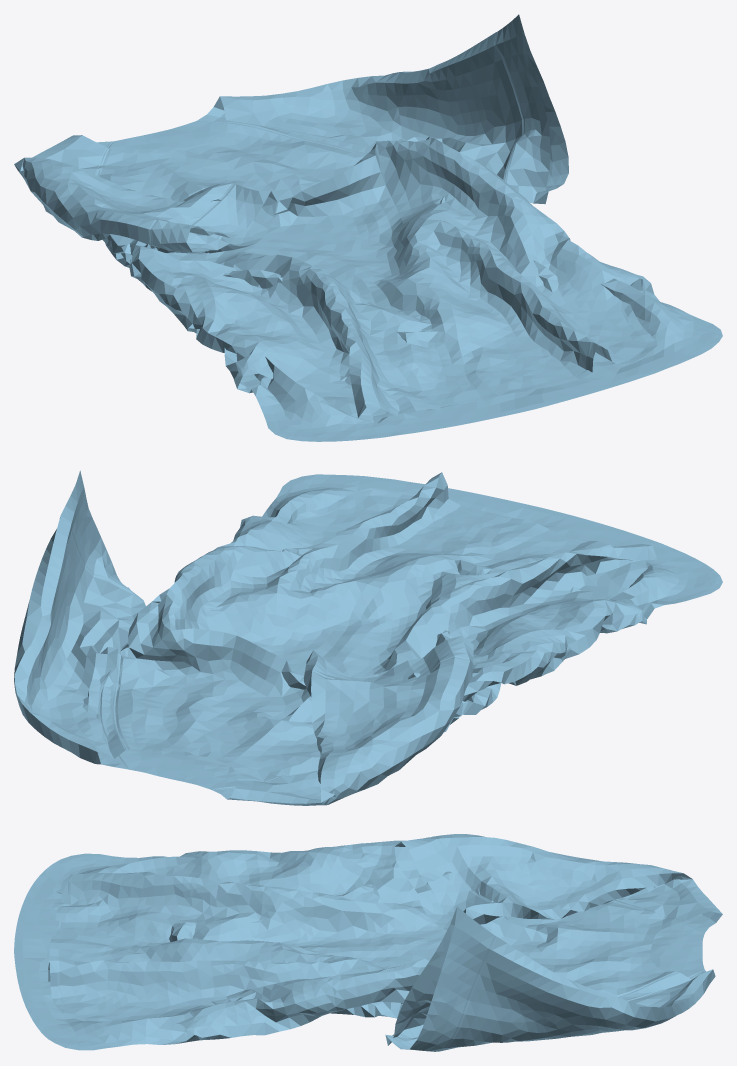
File: frame_07.glb
The picture shows the model from 3 angles, top to bottom: view 1: azimuth 30°, elevation 25°; view 2: azimuth 150°, elevation 25°; view 3: azimuth 270°, elevation 25°; orthographic projection. The views are drawn at different scales.
Parts seen in each view (by area): view 1: frame_07.obj; view 2: frame_07.obj; view 3: frame_07.obj.
Boxes of the visible parts, left/top/right/bottom form: frame_07.obj: left=14, top=14, right=722, bottom=441; frame_07.obj: left=14, top=470, right=722, bottom=805; frame_07.obj: left=14, top=834, right=722, bottom=1051.
Bounding box in the file's own units: 1.28 × 0.4353 × 1.81.
